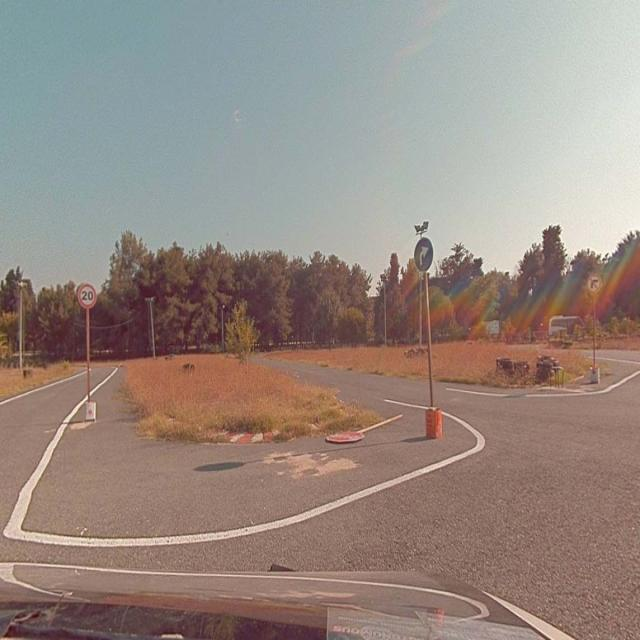20: (79, 286, 95, 307)
sag: (414, 238, 434, 270)
sagadonulmez: (587, 272, 601, 293)
